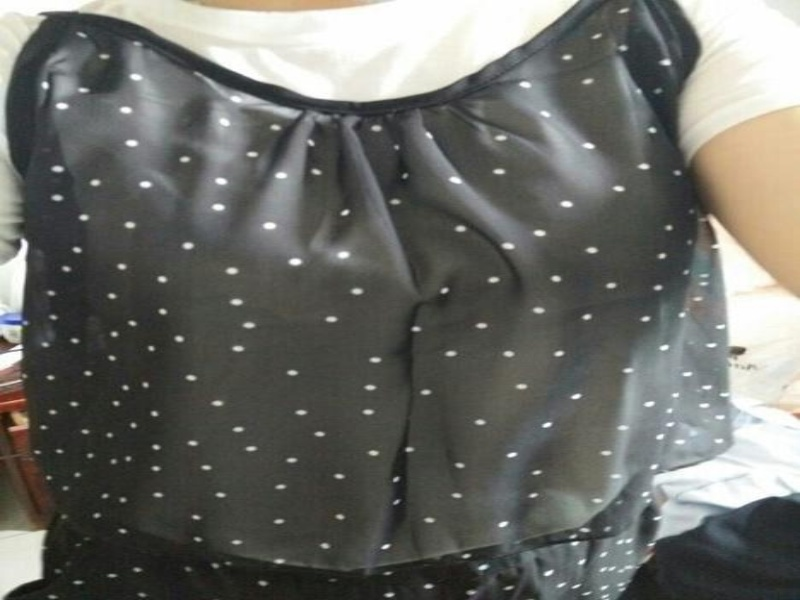sling: (2, 1, 798, 583)
